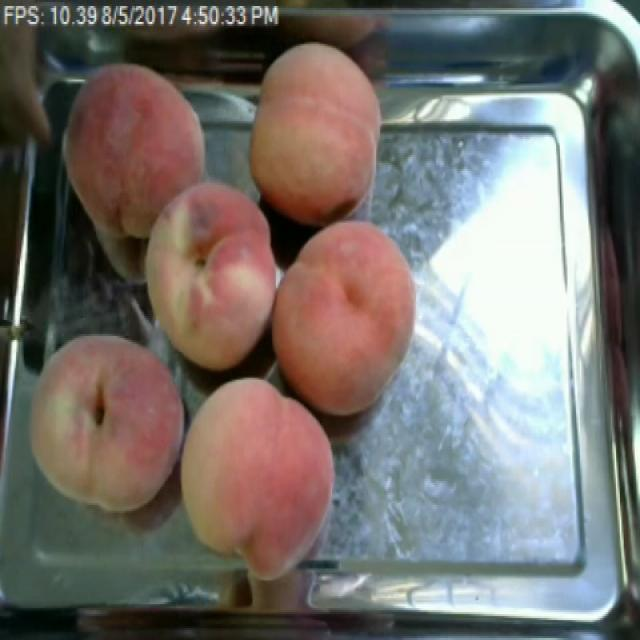Fruit: (166, 368, 346, 588), (14, 324, 198, 525), (51, 50, 220, 250), (273, 211, 427, 427), (129, 167, 279, 380), (240, 32, 393, 230)
